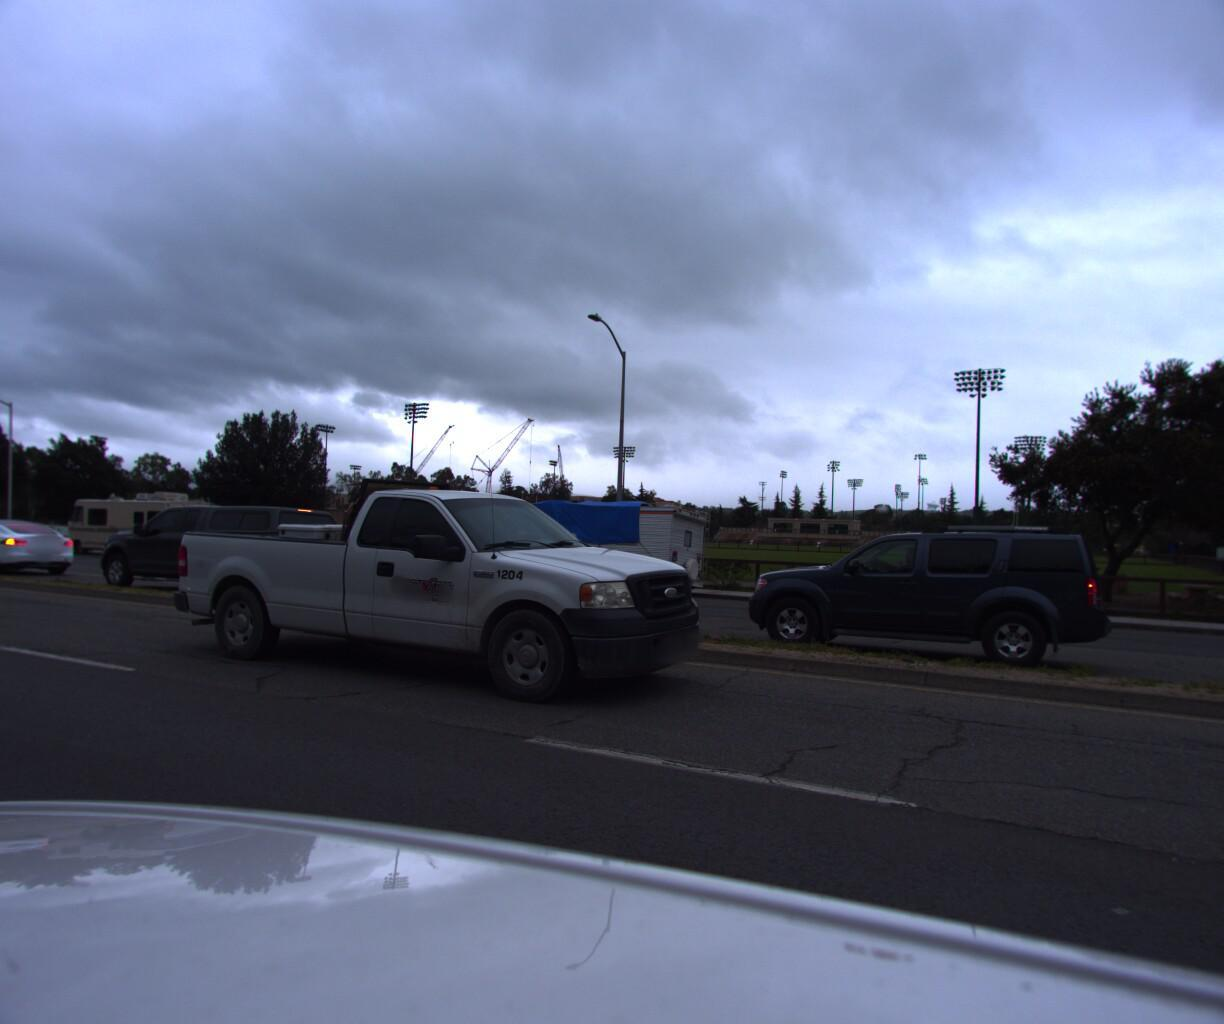car: (163, 443, 731, 730), (733, 510, 1115, 687), (82, 503, 358, 611), (8, 522, 93, 554)
other_vehicle: (489, 495, 716, 604), (56, 489, 223, 561)
